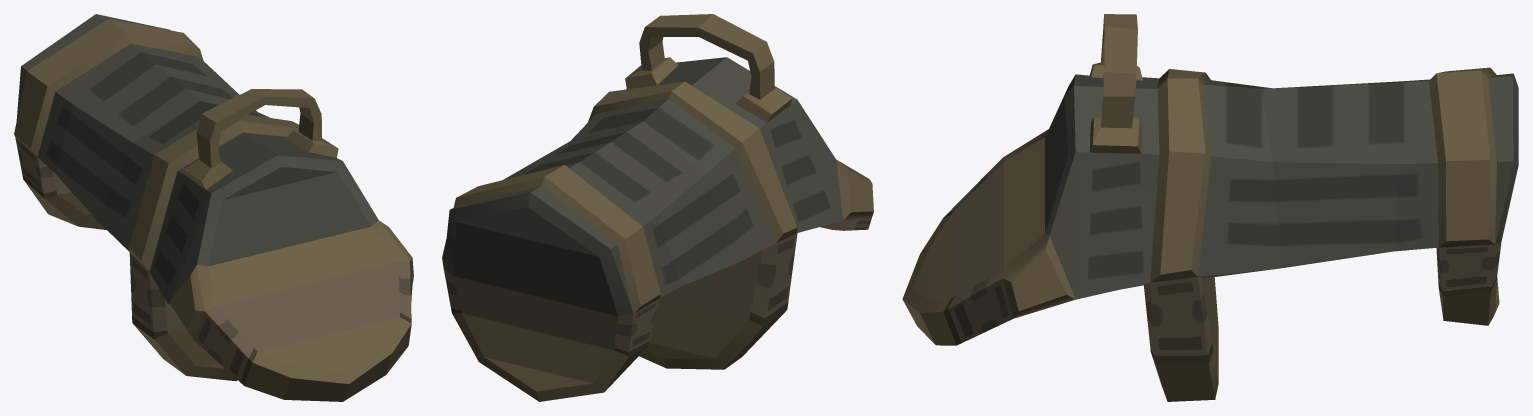
The model's file is SK_Chr_Attach_Vest_Military_Small_01.fbx.
3 renders of one model, left to right at view 1: azimuth 30°, elevation 25°; view 2: azimuth 150°, elevation 25°; view 3: azimuth 270°, elevation 25°, orthographic. The views are drawn at different scales.
Visible parts, largest first — view 1: SK_Chr_Attach_Vest_Military_Small_01; view 2: SK_Chr_Attach_Vest_Military_Small_01; view 3: SK_Chr_Attach_Vest_Military_Small_01.
Part boxes in pixels (box(x1,y1,x2,y2)): SK_Chr_Attach_Vest_Military_Small_01: box(14, 14, 413, 401); SK_Chr_Attach_Vest_Military_Small_01: box(442, 14, 873, 401); SK_Chr_Attach_Vest_Military_Small_01: box(902, 14, 1518, 401).
Bounding box in the file's own units: 33.36 × 43.09 × 65.19.
